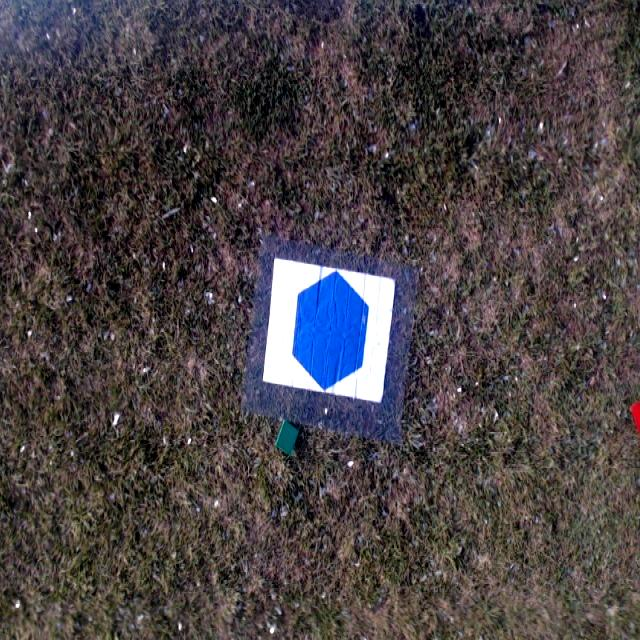blue_hexagon: (294, 273, 368, 390)
